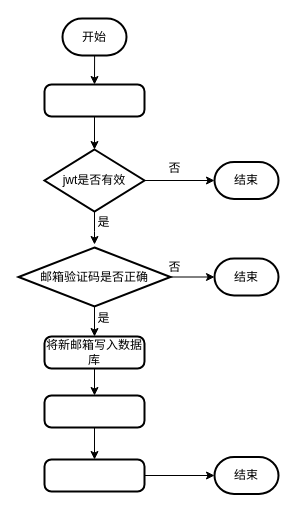
The diagram is 296 pixels wide and 512 high, and some of its shapes have lost their labels. The centre of each missing label's shape, as x and y in pixels:
从Redis删除当前账户所有会话信息: [94,411]
将结果返回前端: [94,475]
用户请求修改邮箱: [94,100]
